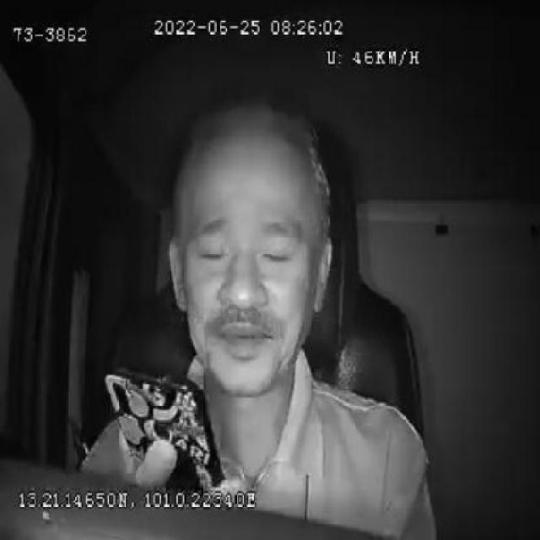phone: (106, 371, 228, 492)
